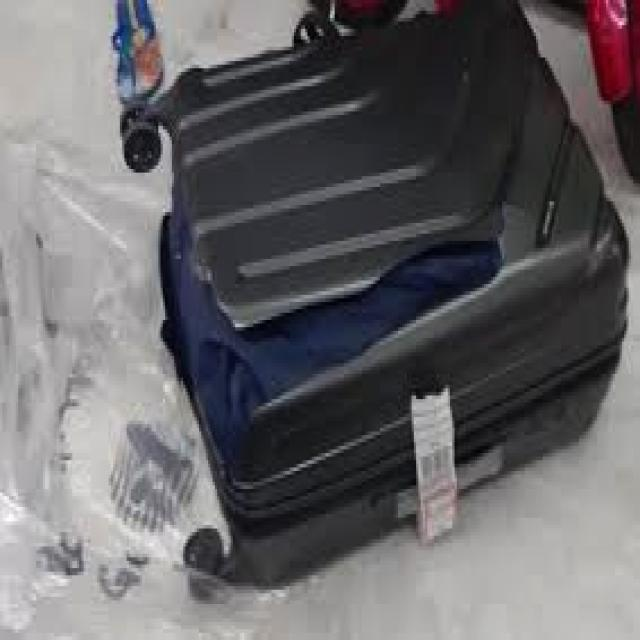Damage-bag: (159, 171, 506, 460)
